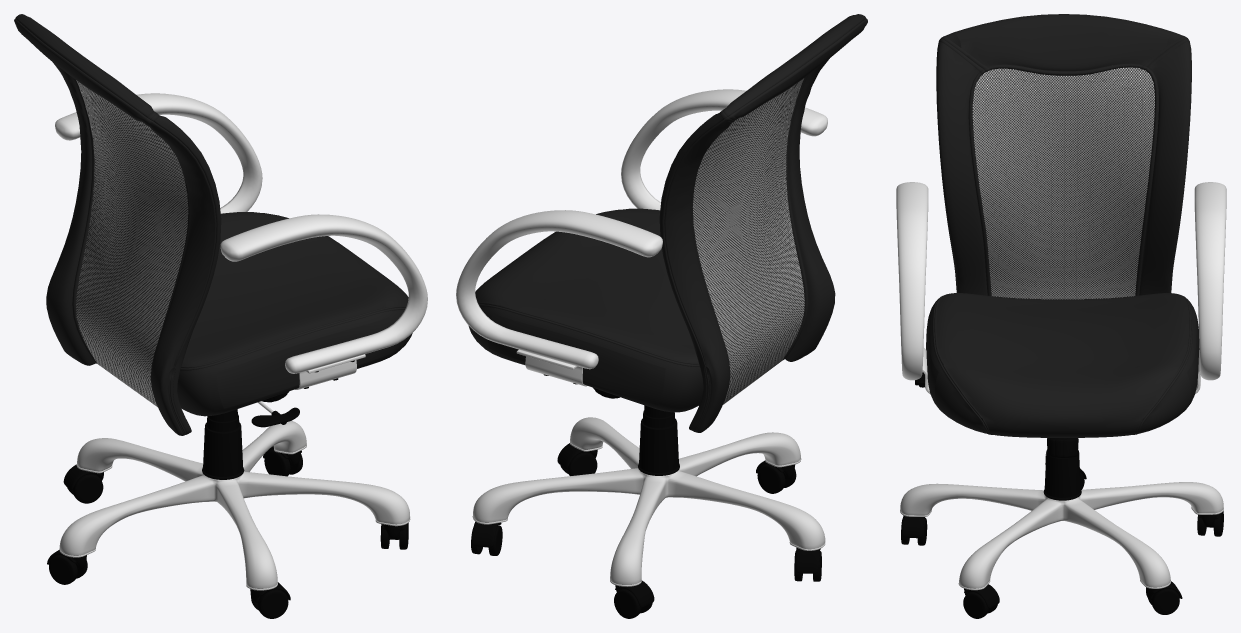
File: office-chair-objaverse.glb
3 renders of one model, left to right at view 1: azimuth 30°, elevation 25°; view 2: azimuth 150°, elevation 25°; view 3: azimuth 270°, elevation 25°, orthographic. The views are drawn at different scales.
Parts seen in each view (by area): view 1: backrest, seat, star_base, armrest, gas_lift; view 2: backrest, seat, star_base, armrest, gas_lift; view 3: backrest, seat, star_base, armrest, gas_lift.
Part boxes in pixels (x1,y1,x2,y2): backrest: [14, 14, 221, 435]; seat: [177, 212, 412, 427]; star_base: [47, 421, 410, 618]; armrest: [55, 93, 427, 373]; gas_lift: [202, 391, 288, 479]; backrest: [659, 14, 867, 432]; seat: [468, 208, 703, 412]; star_base: [471, 417, 825, 618]; armrest: [456, 89, 827, 369]; gas_lift: [593, 388, 679, 475]; backrest: [936, 14, 1191, 299]; seat: [915, 292, 1200, 437]; star_base: [900, 452, 1223, 618]; armrest: [896, 182, 1226, 380]; gas_lift: [1043, 438, 1081, 500].
Bounding box in the file's own units: 0.6092 × 0.95 × 0.5946.
5 materials, 1 textured.
